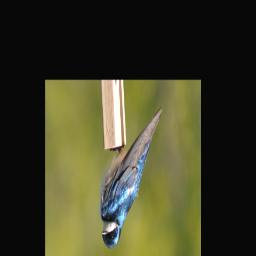Swallow: (98, 104, 163, 252)
